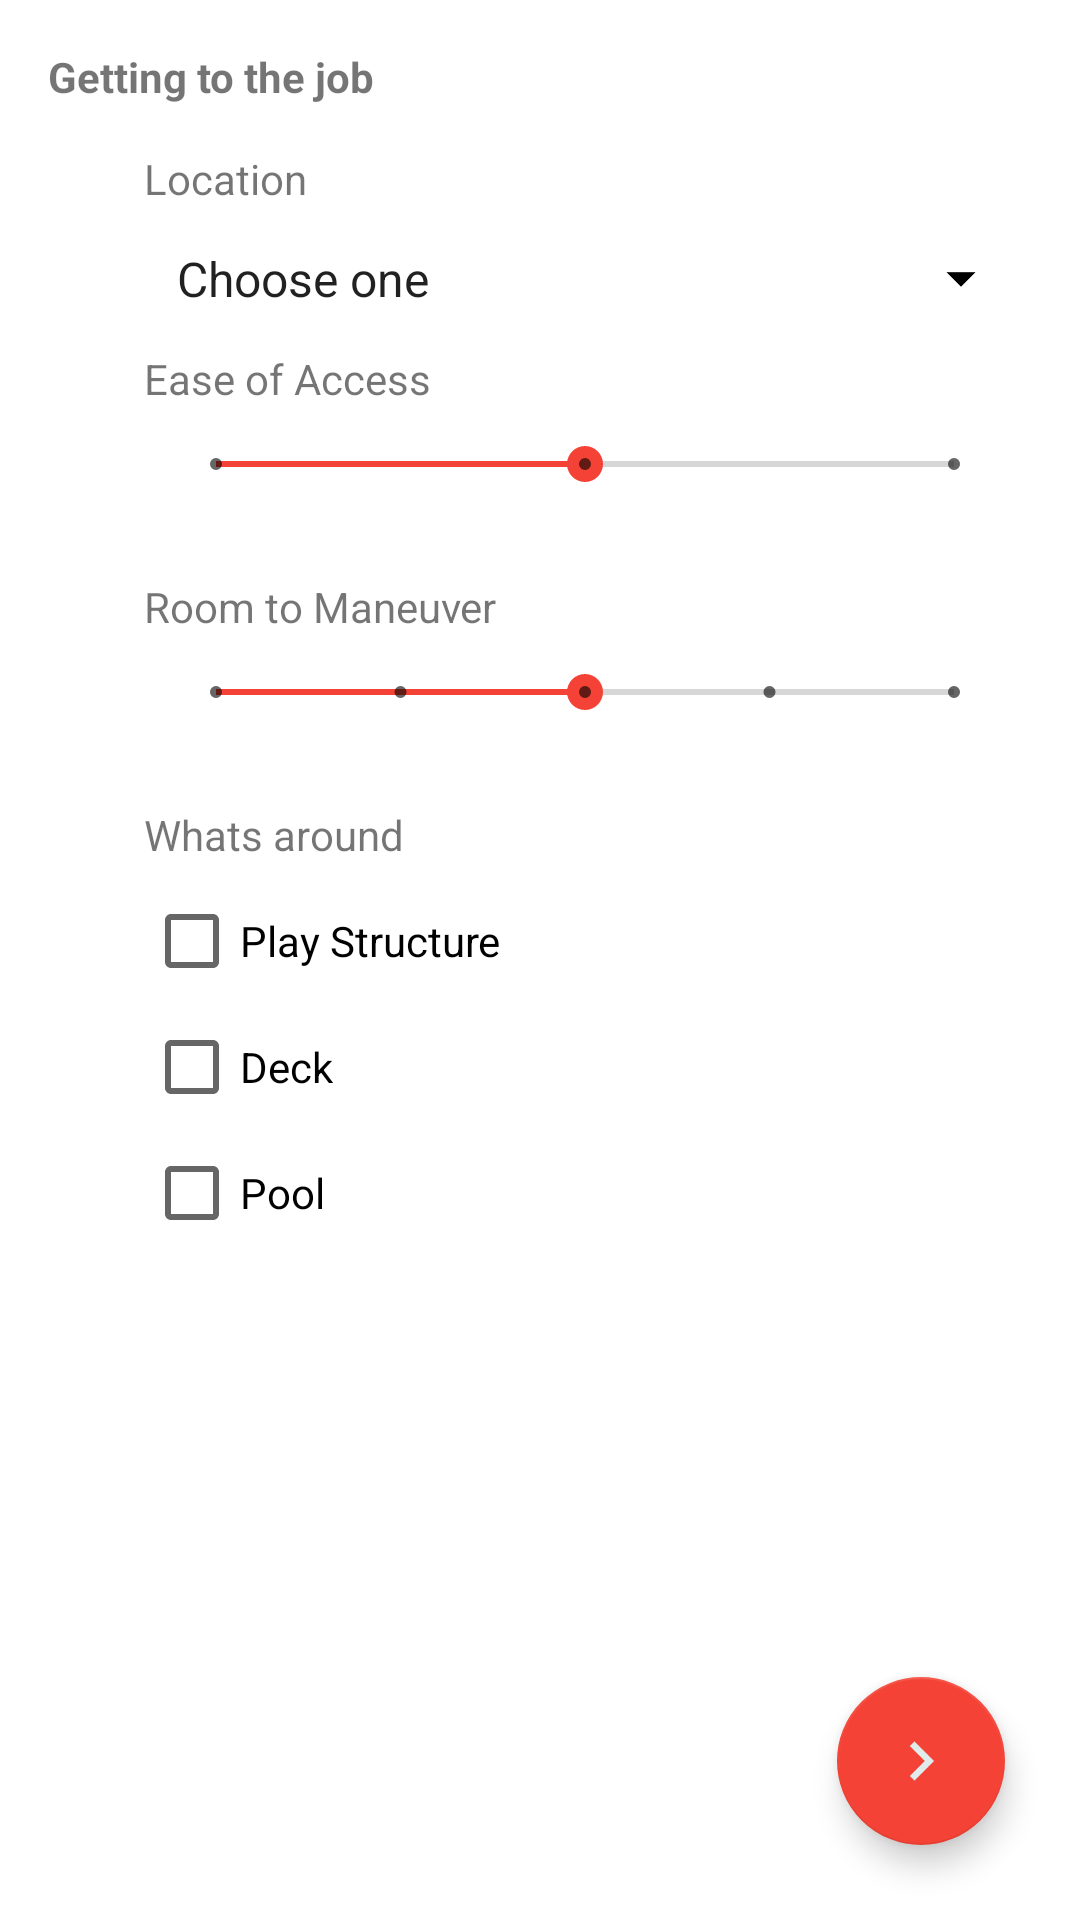

Where to tap for icons on this 1080 × 1920 app screen, as (x,y):
right arrow: (921,1761)
